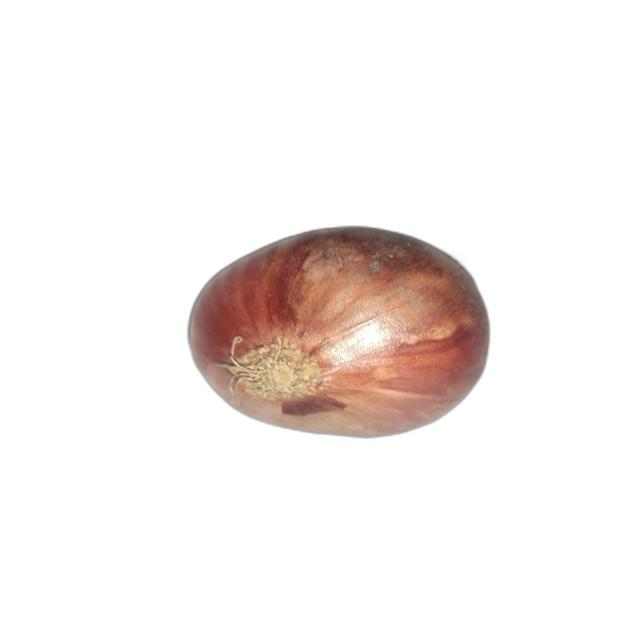onion: (188, 226, 491, 440)
